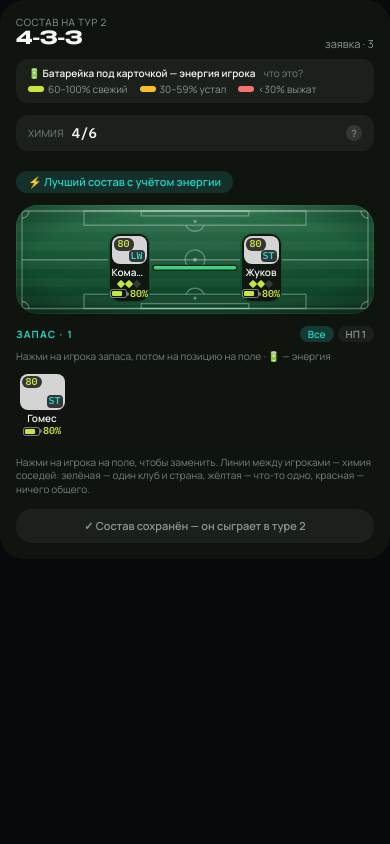
Test: CareerSquad › shows the XI with photos, chemistry and the chemistry cost of a swap
Check: the text "Запас · 1" is shown, box [16, 328, 74, 340]
Click the button with aria-label "FWD2: Пётр Жуков". click: (261, 267)
box: [240, 232, 282, 302]
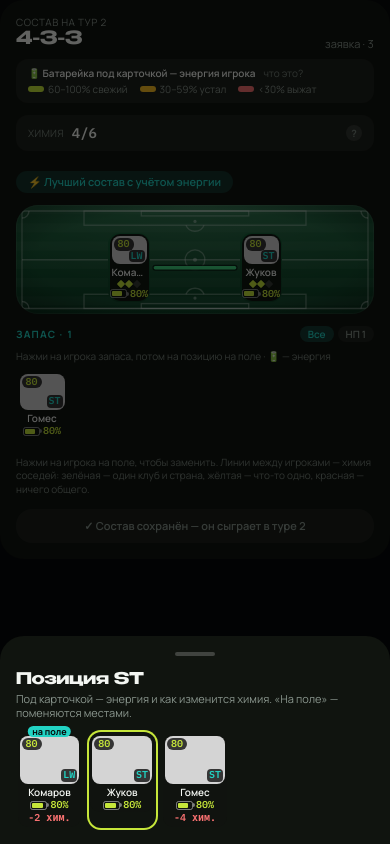
Check: the text "-2 хим." is shown, box [28, 812, 70, 824]
